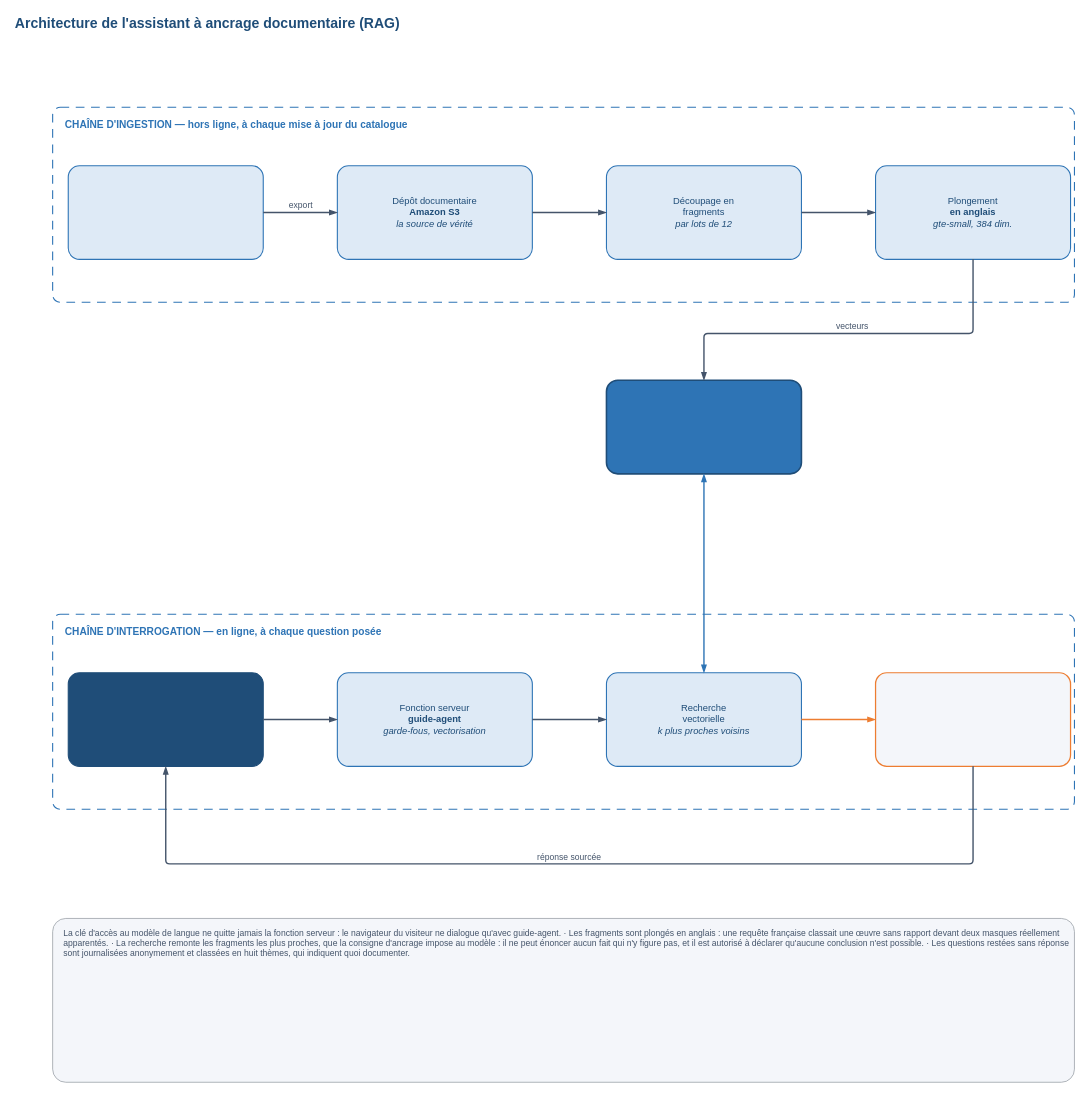
The diagram is 1088 pixels wide and 1096 high, and some of its shapes have lost their labels. Here are the shapes that lost their labels. From the top down, the centre of each, then its label:
point 165,212: Base des notices œuvres, salles, musées, FAQ
point 703,426: Index vectoriel HNSW — pgvector distance cosinus
point 165,719: Visiteur question en français ou en anglais
point 973,719: Modèle de langue génération contrôlée
